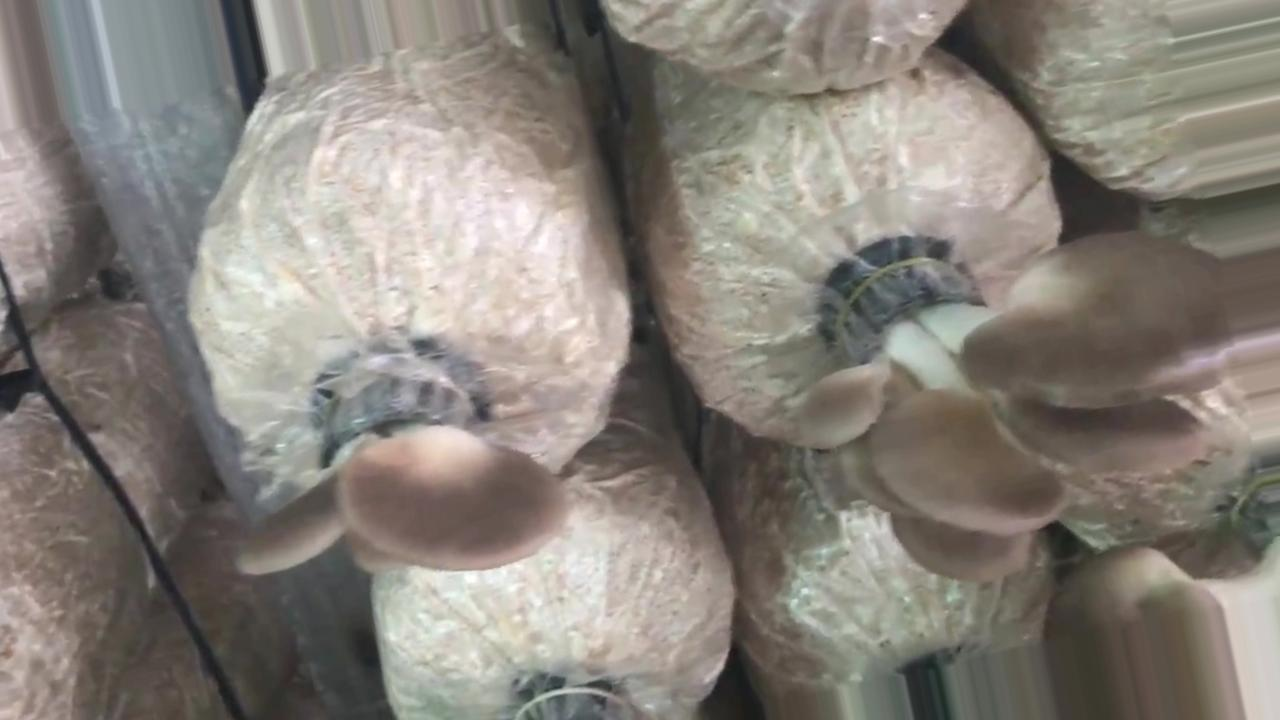nam: (793, 232, 1245, 580), (234, 350, 575, 584)
